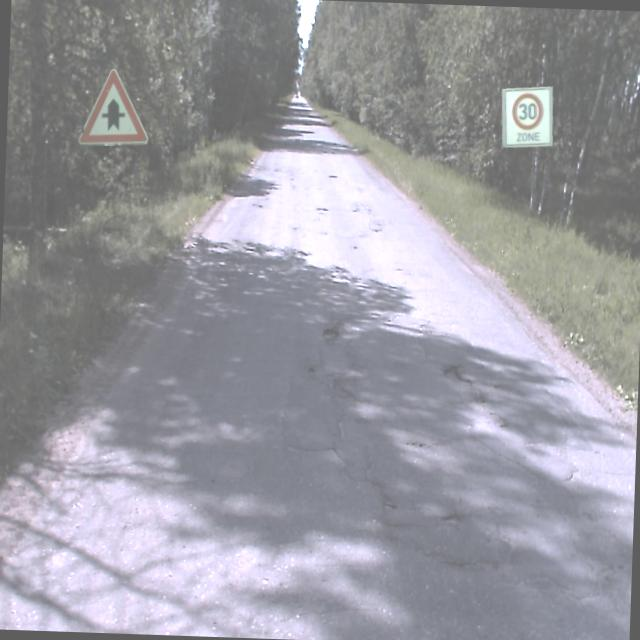road: (0, 95, 635, 640)
